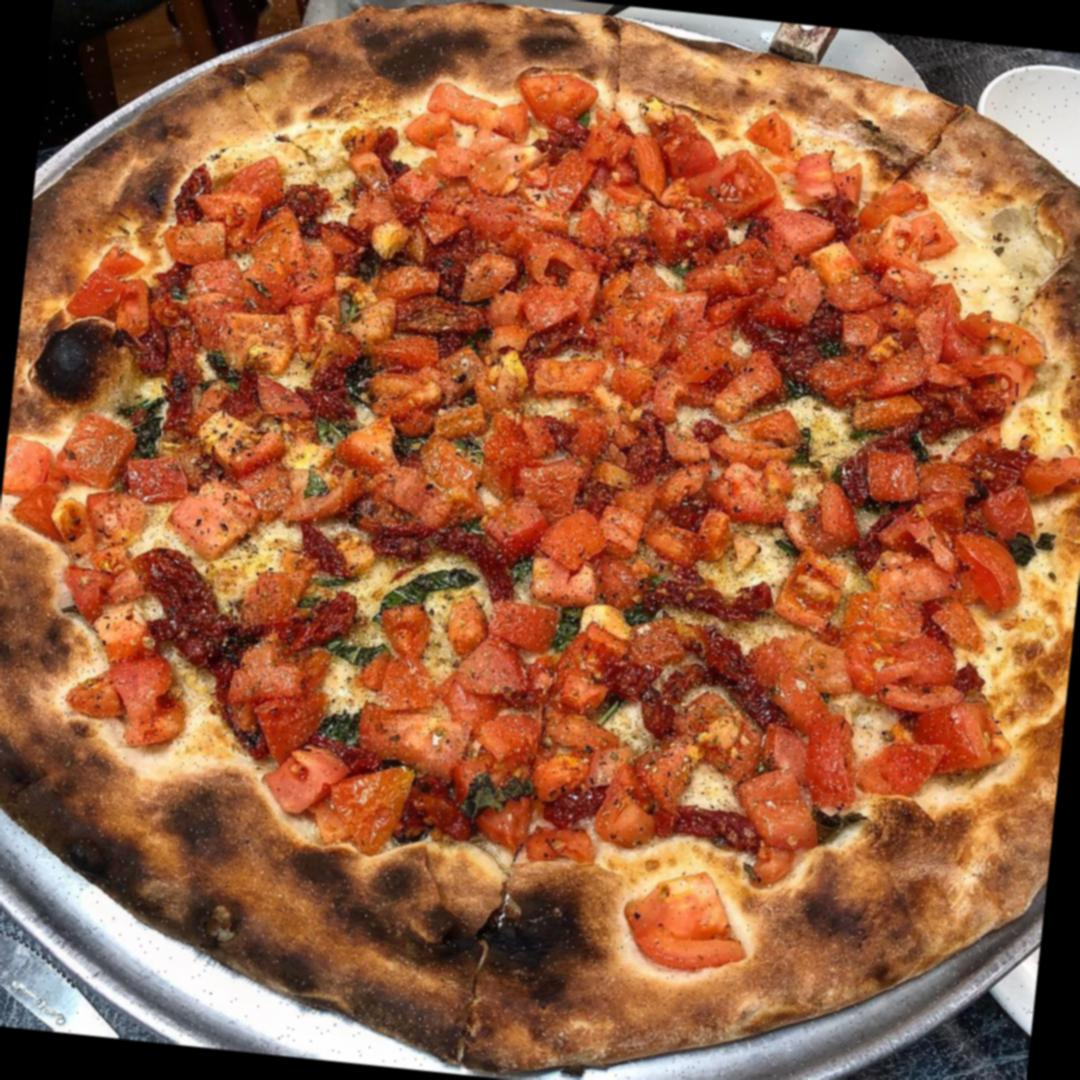Pizza: (0, 0, 1080, 1080)
Tomatoes: (100, 327, 994, 632), (62, 539, 980, 832), (168, 153, 948, 412)
